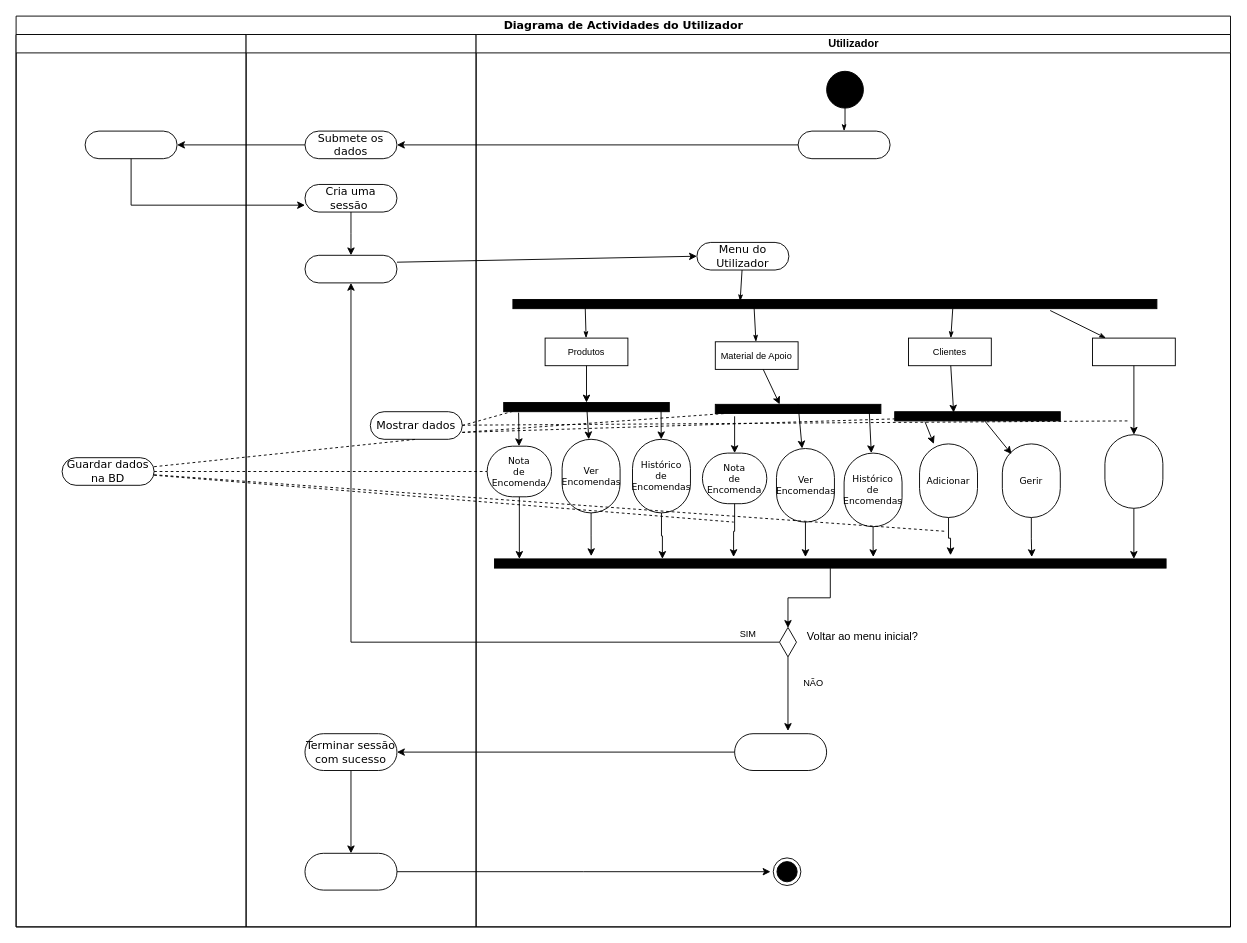
Some shapes in this 1247 by 943 pixel diagram are drawn without their labels. Each missing label, with the box of its shape:
Editar Perfil: (1104, 434, 1163, 508)
Login: (797, 130, 890, 159)
Mostra o menu do Utilizador: (304, 254, 397, 283)
Perfil: (1092, 337, 1175, 366)
Página Login: (304, 852, 397, 890)
Servidor: (15, 34, 246, 927)
Sistema: (245, 34, 476, 927)
Terminar sessão: (734, 733, 827, 770)
Verifica os dados: (84, 130, 177, 159)
